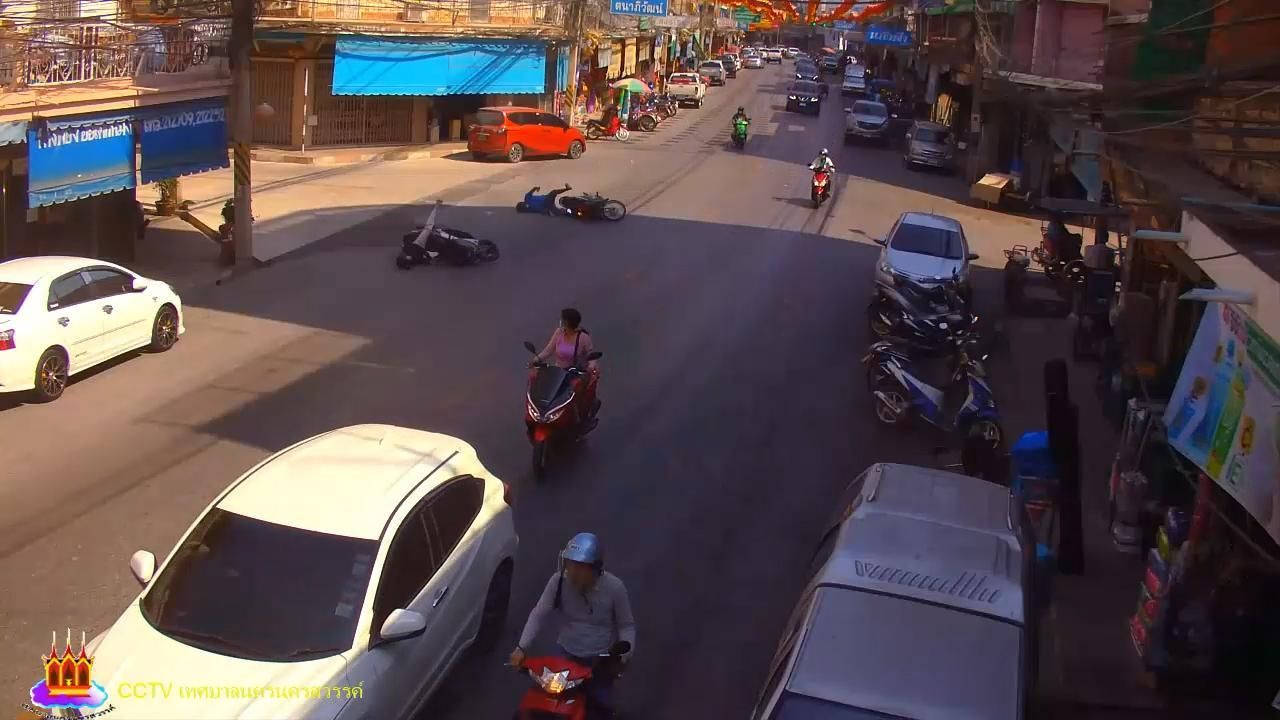accident: (518, 182, 573, 220)
